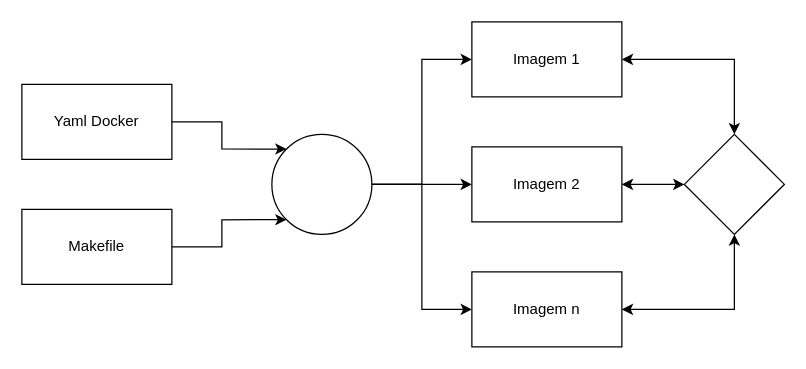
Image size: 806x369. Some labels were removed from this diagram. The shapes that lost their labels are listed below. From the top down, each one's centre as x and y in pixels, then its label:
the point at 321,183: Docker Compose
the point at 733,183: Network
